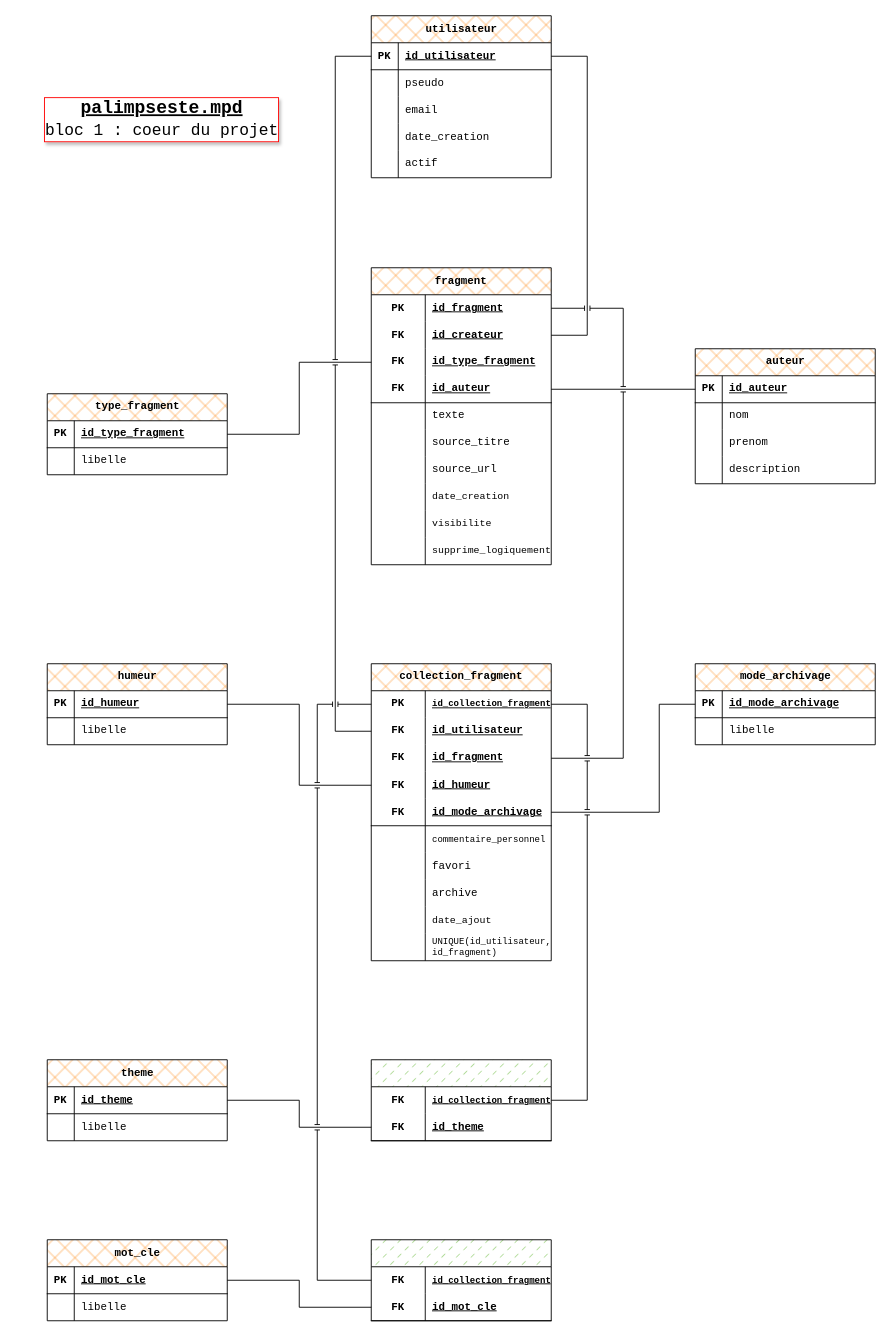
Some shapes in this 891 by 1337 pixel diagram are drawn without their labels. Each missing label, with the box of its shape:
collection_mot_cle: (370, 1239, 551, 1321)
collection_theme: (370, 1059, 551, 1141)
